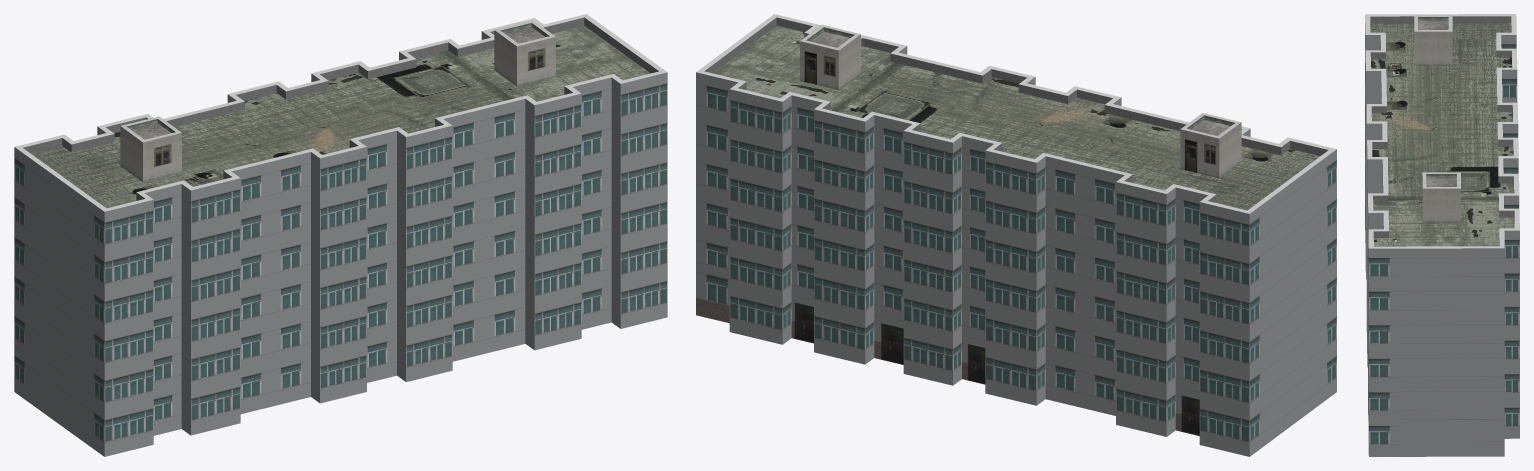
3 renders of one model, left to right at view 1: azimuth 30°, elevation 25°; view 2: azimuth 150°, elevation 25°; view 3: azimuth 270°, elevation 25°, orthographic. The views are drawn at different scales.
Parts seen in each view (by area): view 1: jz20; view 2: jz20; view 3: jz20.
Boxes of the visible parts, x1,y1,x2,y2 form: jz20: (14, 14, 667, 456); jz20: (696, 14, 1336, 456); jz20: (1365, 14, 1519, 456).
Size of the model in its own units: 4343 by 2029 by 1211.
15 materials, 15 textured.
